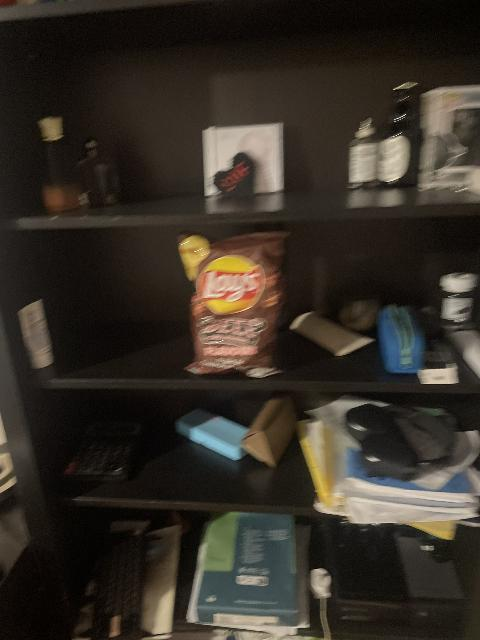Lays Beef Grilled Ribs 125g: (178, 231, 289, 374)
